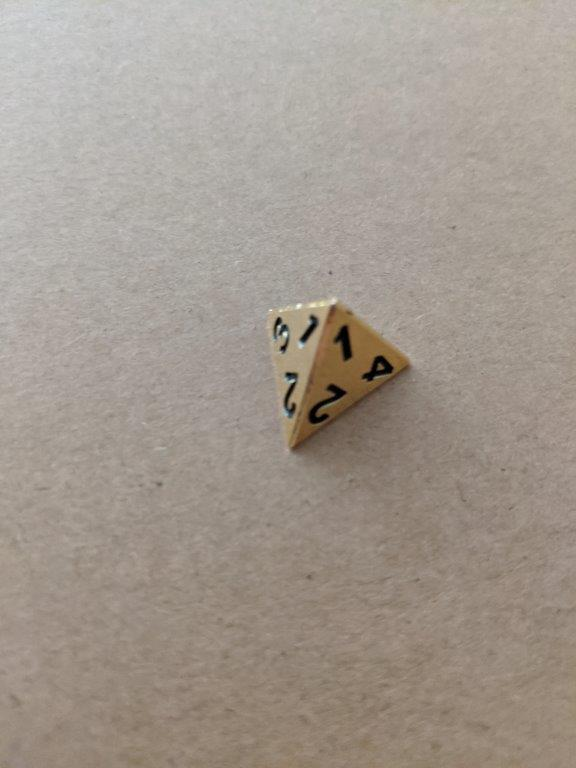d4-1: (254, 294, 414, 452)
